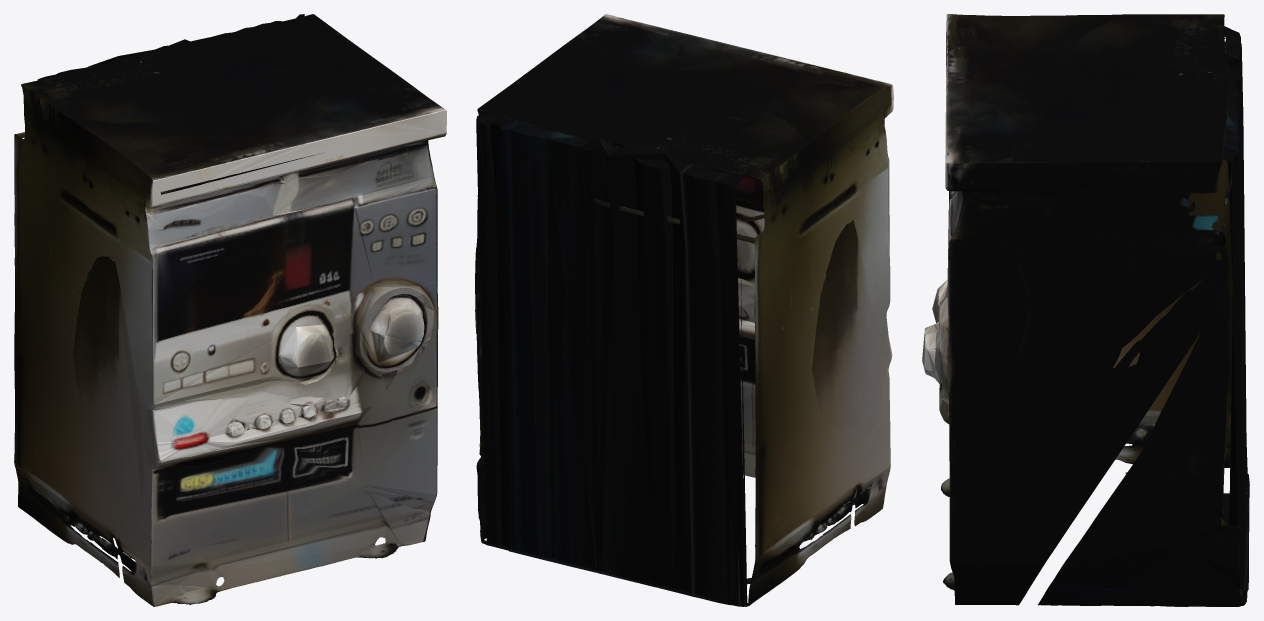
Rendered from monitorgrisbake.glb.
3 renders of one model, left to right at view 1: azimuth 30°, elevation 25°; view 2: azimuth 150°, elevation 25°; view 3: azimuth 270°, elevation 25°, orthographic. The views are drawn at different scales.
Visible parts, largest first — view 1: world; view 2: world; view 3: world.
Boxes of the visible parts, x1,y1,x2,y2 form: world: (14,14,446,606); world: (475,14,893,606); world: (922,14,1249,606).
Bounding box in the file's own units: 0.7177 × 1.01 × 0.6578.
Materials: 1 (1 with a texture image).
